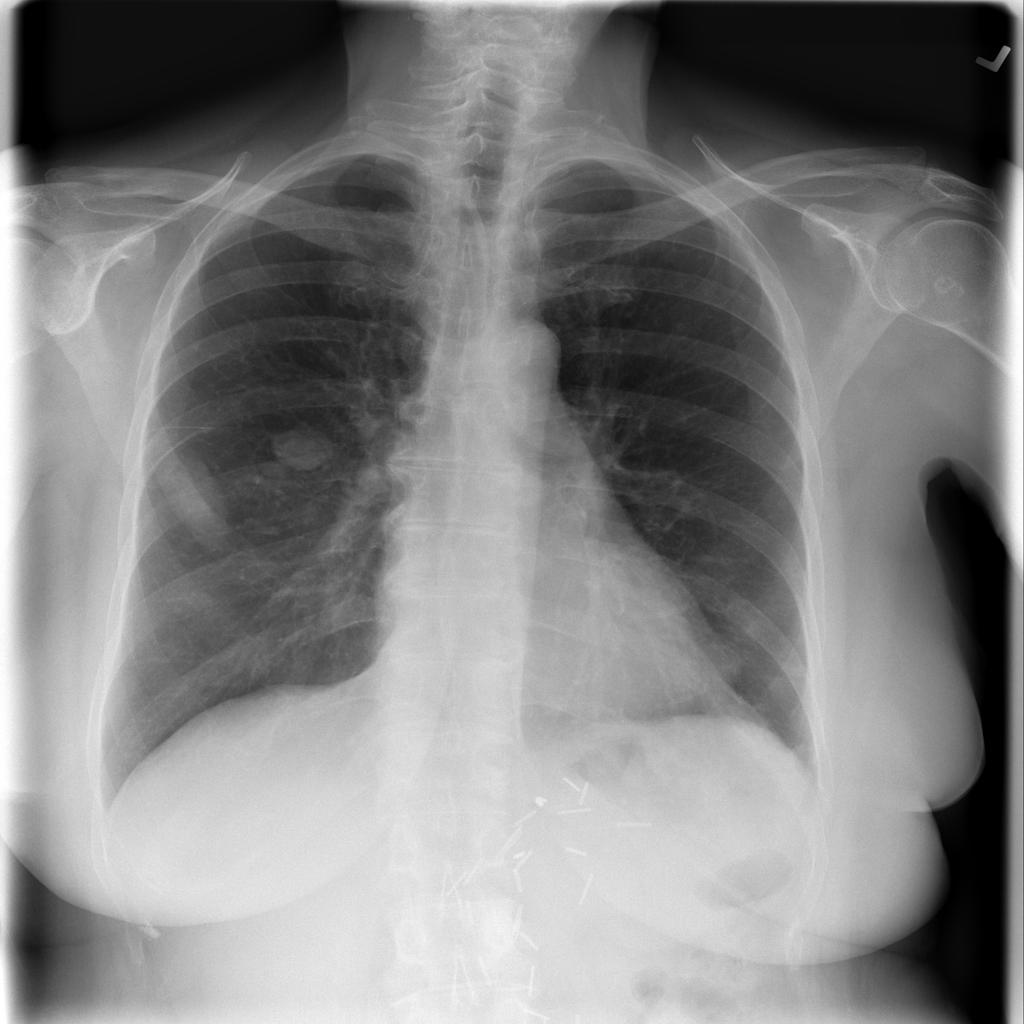nodule: (145, 440, 248, 556), (679, 632, 756, 705), (259, 416, 344, 481)
